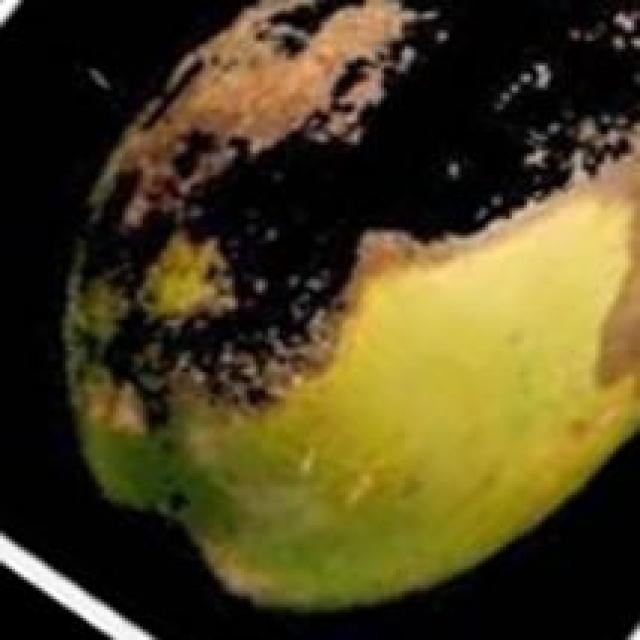damaged: (65, 0, 637, 607)
